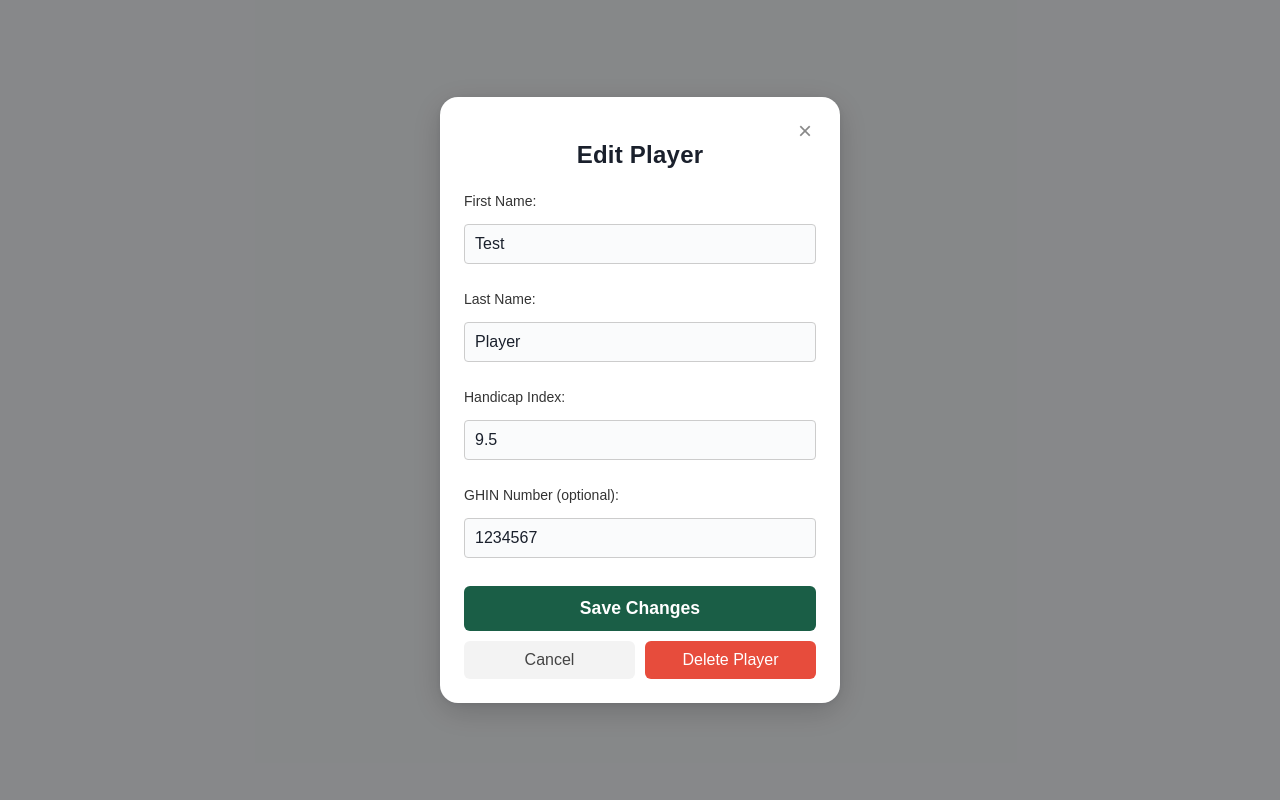
Test case: Player Preferences › QuickHandicapEditor › validates handicap index input
This screenshot has width=1280, height=800.
# Test invalid input
Replace the text in the number field labelled "Handicap Index:" with "abc" at [640, 440], box 464,420 -> 816,460
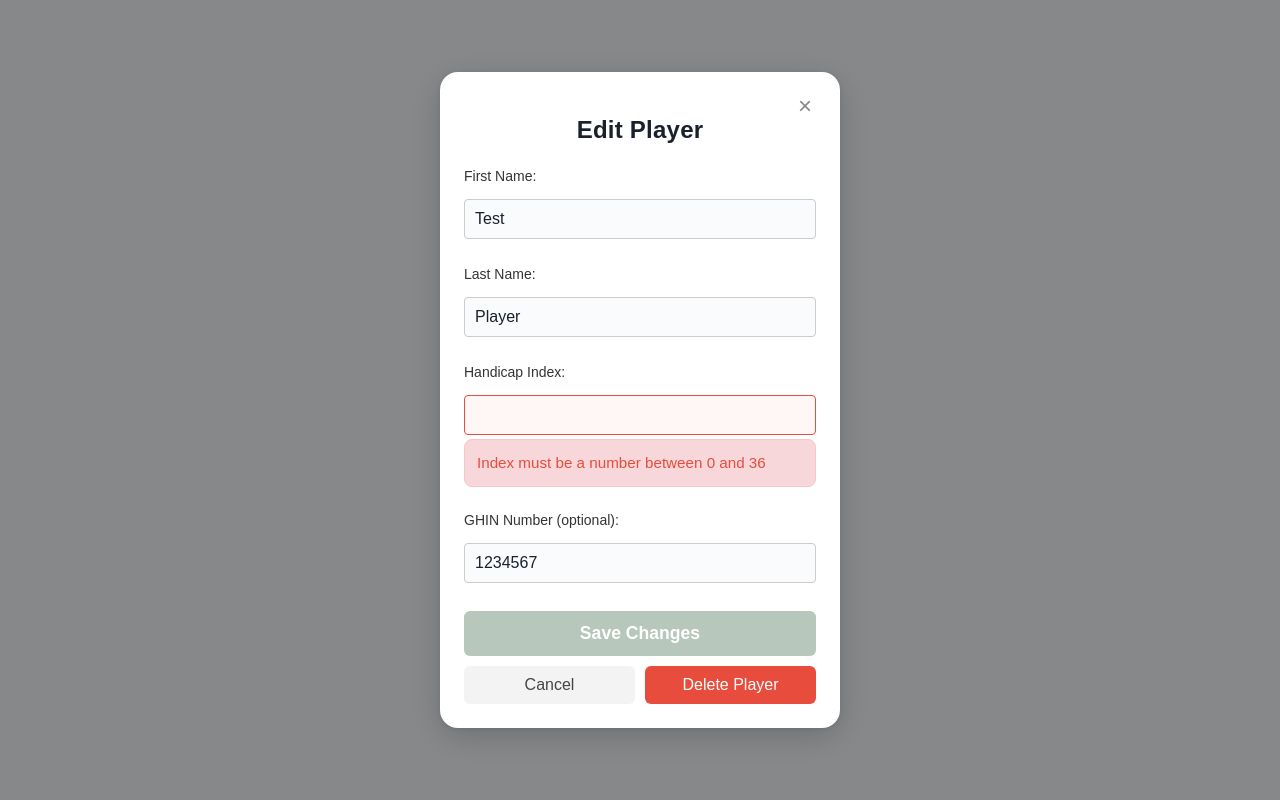
Expected: the text "Index must be a number between 0 and 36" is shown, 464,439 -> 816,487
Expected: the button "Save Changes" is disabled, 464,611 -> 816,656
# Test out of range
Type "40" into the number field labelled "Handicap Index:".
click(640, 415); type("40")  # box 464,395 -> 816,435
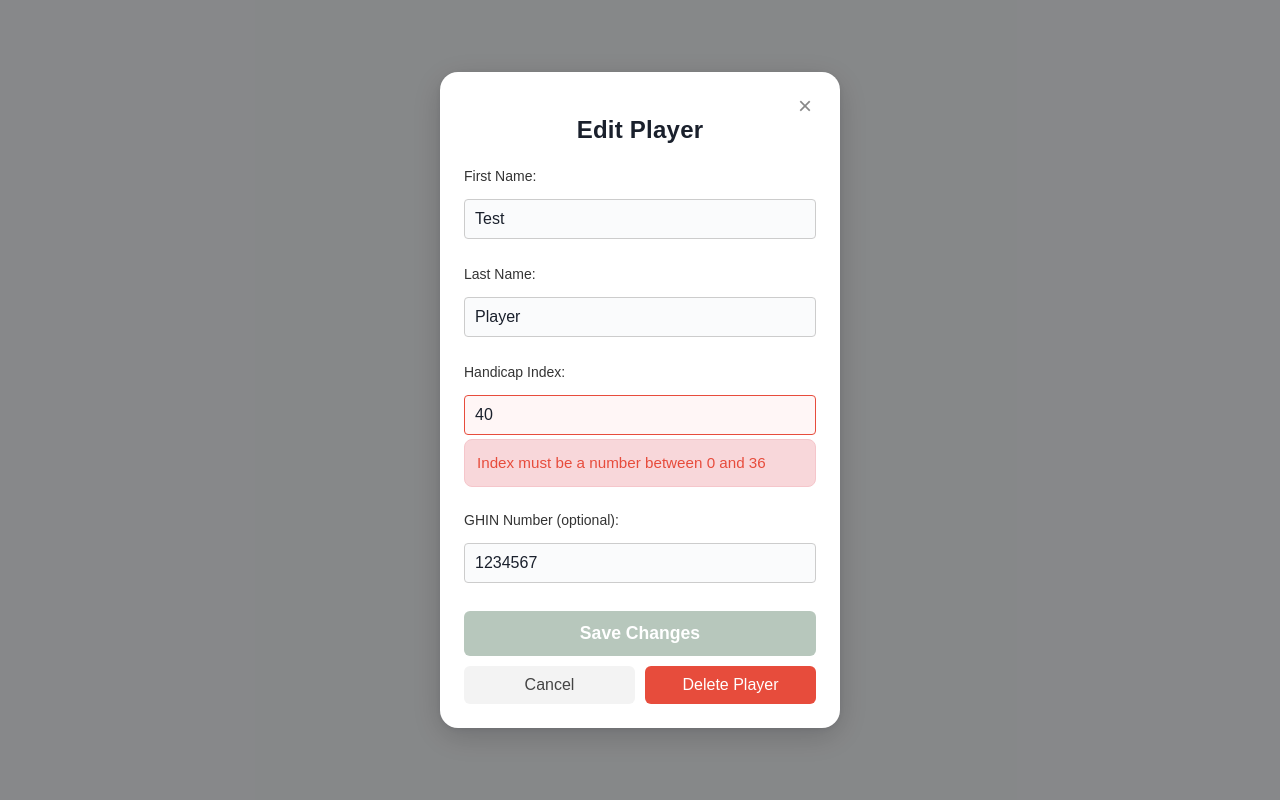
Expected: the text "Index must be a number between 0 and 36" is shown, 464,439 -> 816,487
Expected: the button "Save Changes" is disabled, 464,611 -> 816,656
# Test valid input
Replace the text in the number field labelled "Handicap Index:" with "12.5" at [640, 415], box 464,395 -> 816,435
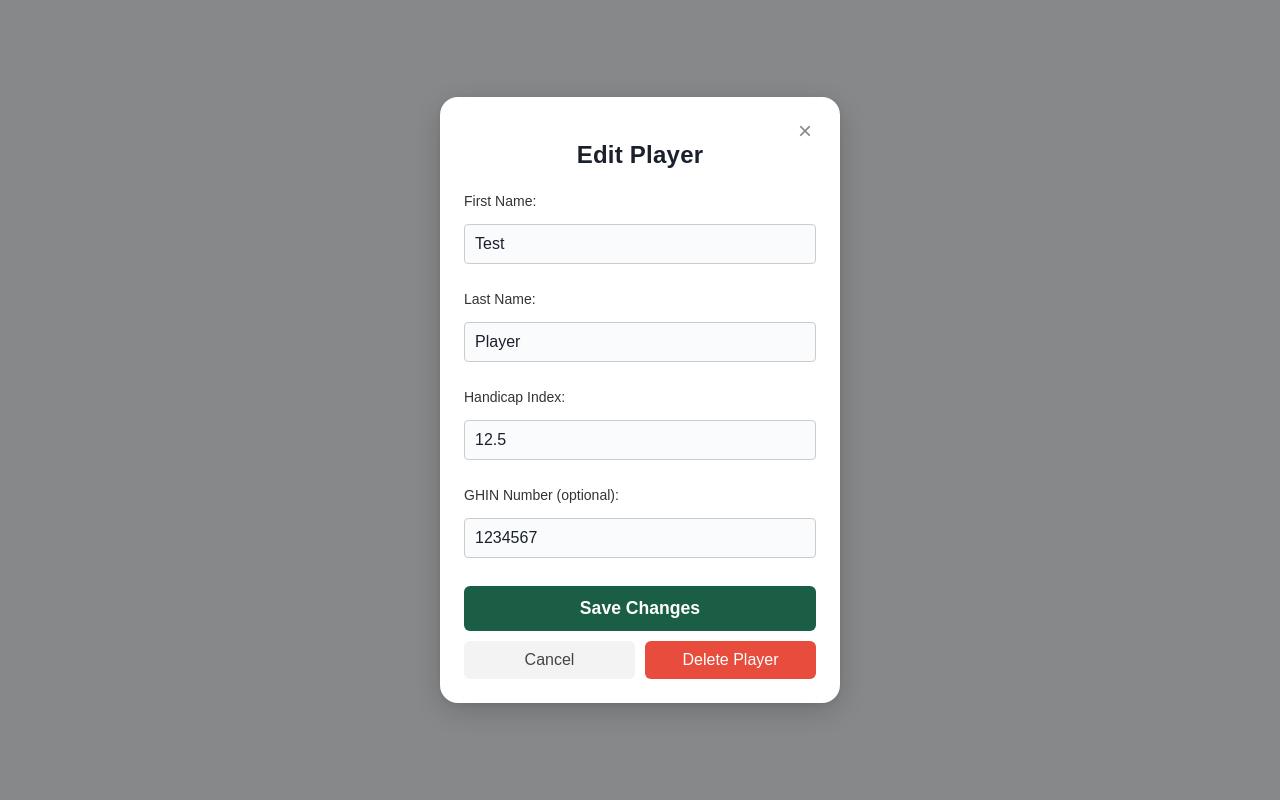
Expected: the text "Index must be a number" is gone
Expected: the button "Save Changes" is enabled, 464,586 -> 816,631
